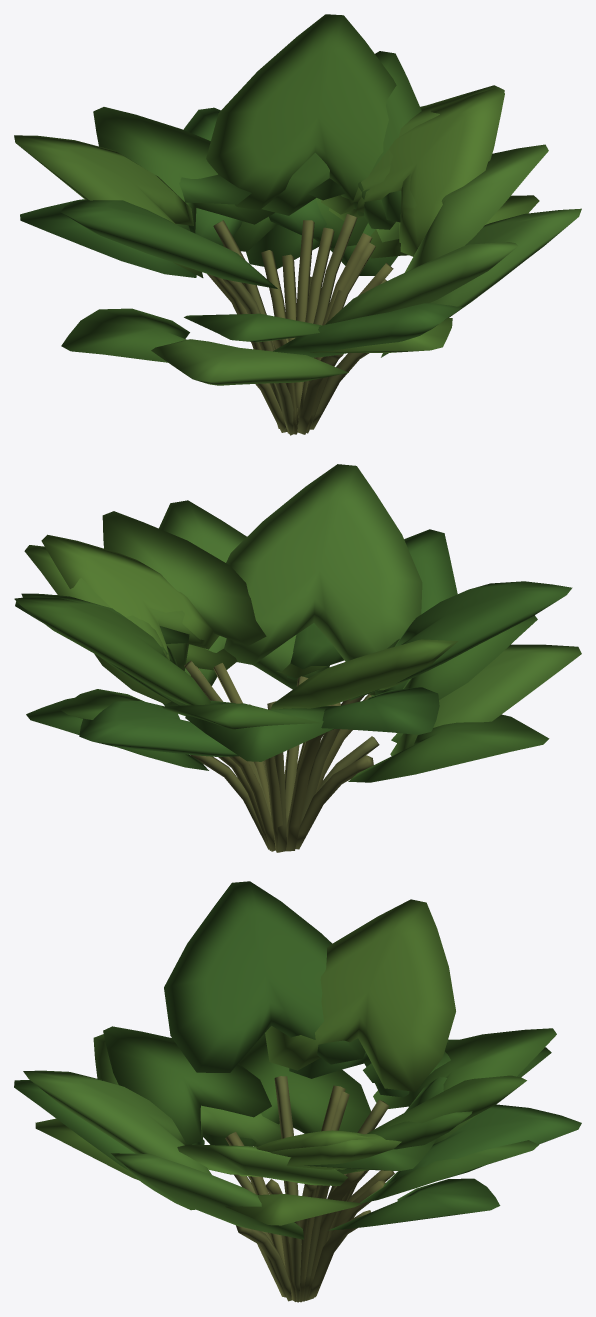
The model's file is bed_hosta.glb.
3 renders of one model, top to bottom at view 1: azimuth 30°, elevation 25°; view 2: azimuth 150°, elevation 25°; view 3: azimuth 270°, elevation 25°, orthographic. The views are drawn at different scales.
Parts seen in each view (by area): view 1: Sammel Pflanze, Sammel Putz; view 2: Sammel Pflanze, Sammel Putz; view 3: Sammel Pflanze, Sammel Putz.
Part boxes in pixels (box(x1,y1,x2,y2)): Sammel Pflanze: box(14, 14, 581, 385); Sammel Putz: box(207, 214, 393, 435); Sammel Pflanze: box(14, 464, 581, 782); Sammel Putz: box(184, 660, 379, 852); Sammel Pflanze: box(14, 881, 581, 1239); Sammel Putz: box(225, 1076, 394, 1302).
Bounding box in the file's own units: 0.4754 × 0.2751 × 0.4872.
